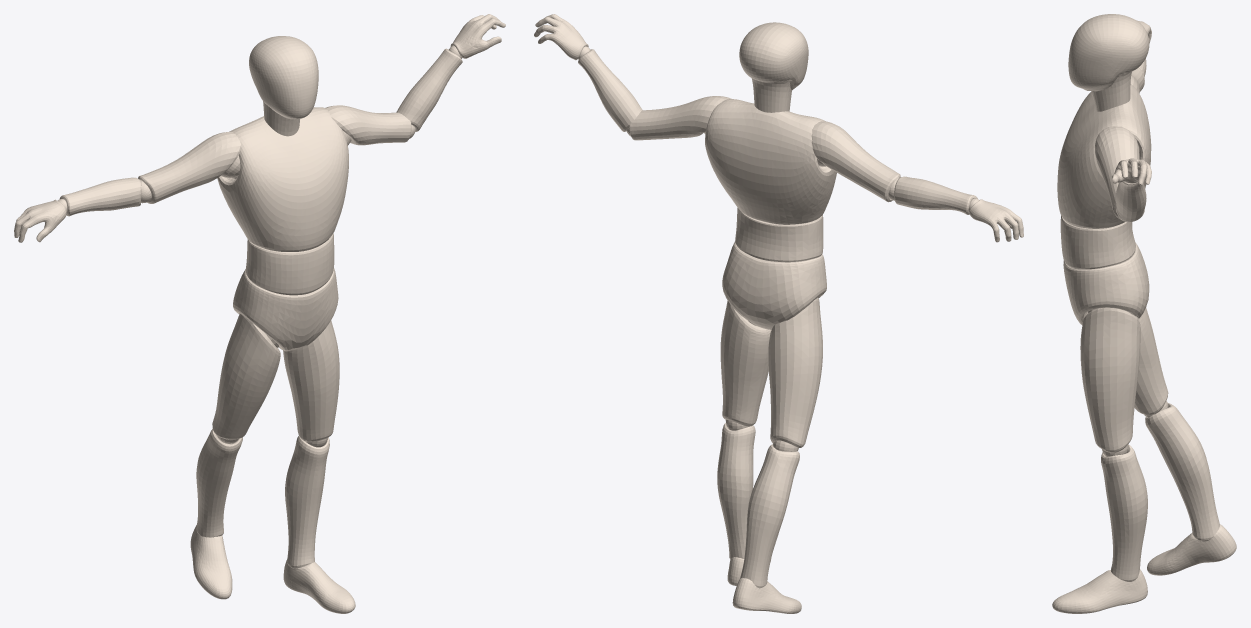
File: posed_mannequin.glb
3 renders of one model, left to right at view 1: azimuth 30°, elevation 25°; view 2: azimuth 150°, elevation 25°; view 3: azimuth 270°, elevation 25°, orthographic. The views are drawn at different scales.
Parts seen in each view (by area): view 1: posed_mannequin.obj; view 2: posed_mannequin.obj; view 3: posed_mannequin.obj.
Boxes of the visible parts, x1,y1,x2,y2 form: posed_mannequin.obj: (14,14,505,613); posed_mannequin.obj: (534,14,1023,613); posed_mannequin.obj: (1052,14,1236,613).
Bounding box in the file's own units: 1.69 × 1.87 × 0.5443.
